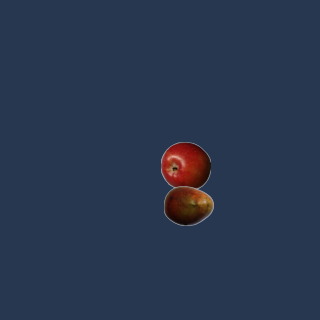Apple Braeburn: (160, 141, 210, 191)
Mango Red: (163, 180, 213, 230)
